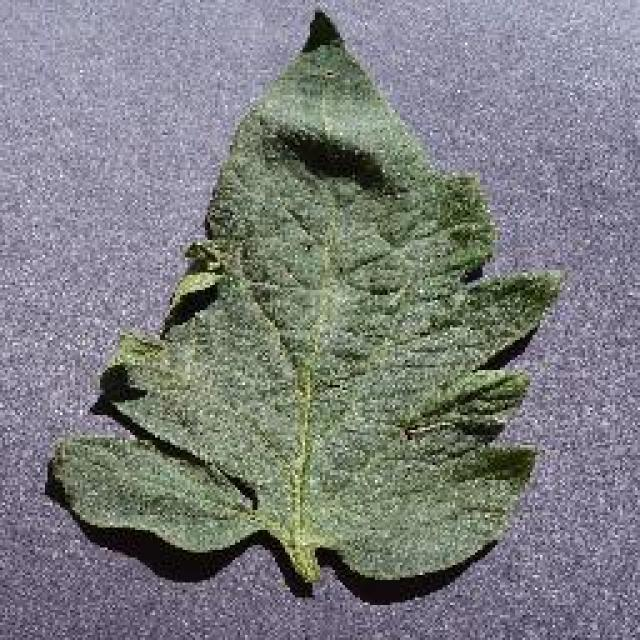Tomato_Healthy: (34, 6, 564, 578)
